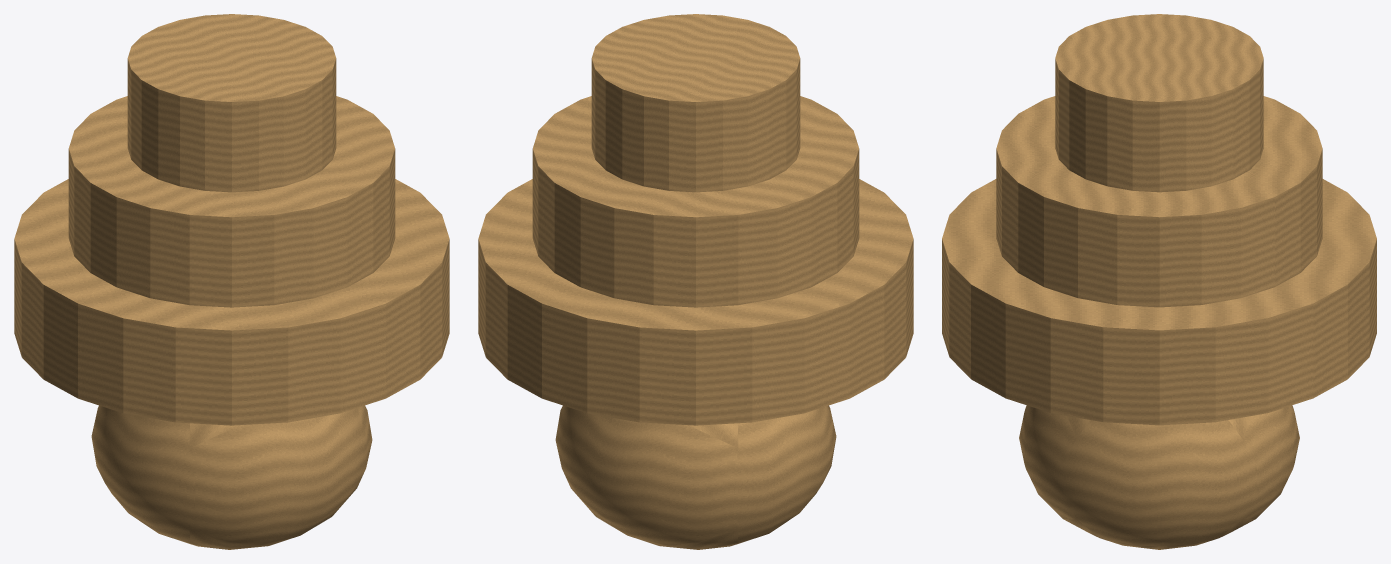
The picture shows the model from 3 angles, left to right: view 1: azimuth 30°, elevation 25°; view 2: azimuth 150°, elevation 25°; view 3: azimuth 270°, elevation 25°; orthographic projection.
Visible parts, largest first — view 1: 3 shade_bottom_tier, 4 shade_middle_tier, 5 shade_top_tier, 1 woven_base; view 2: 3 shade_bottom_tier, 4 shade_middle_tier, 5 shade_top_tier, 1 woven_base; view 3: 3 shade_bottom_tier, 4 shade_middle_tier, 5 shade_top_tier, 1 woven_base.
Part boxes in pixels (bbox=[...]): 3 shade_bottom_tier: bbox=[14, 179, 449, 425]; 4 shade_middle_tier: bbox=[68, 96, 395, 307]; 5 shade_top_tier: bbox=[127, 14, 336, 192]; 1 woven_base: bbox=[91, 405, 372, 549]; 3 shade_bottom_tier: bbox=[478, 179, 913, 425]; 4 shade_middle_tier: bbox=[532, 96, 859, 307]; 5 shade_top_tier: bbox=[591, 14, 800, 192]; 1 woven_base: bbox=[555, 405, 836, 549]; 3 shade_bottom_tier: bbox=[942, 179, 1376, 425]; 4 shade_middle_tier: bbox=[996, 96, 1322, 307]; 5 shade_top_tier: bbox=[1055, 14, 1263, 192]; 1 woven_base: bbox=[1019, 405, 1299, 549].
Bounding box in the file's own units: 0.83 × 1 × 0.83.
3 materials, 2 textured.
